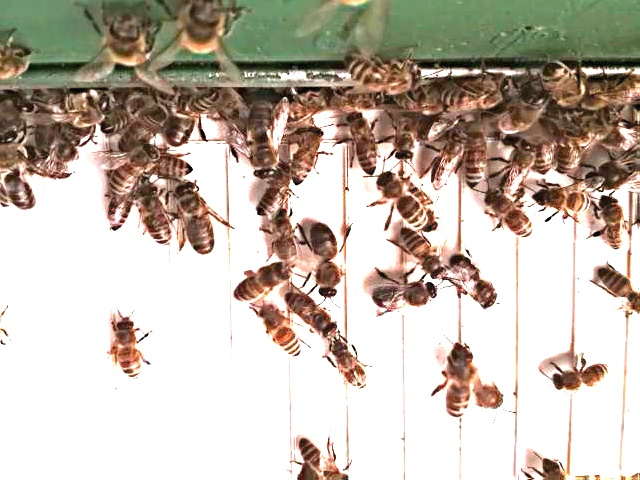Drone: (446, 252, 501, 314), (175, 181, 218, 258), (307, 221, 344, 305), (442, 340, 477, 424), (368, 278, 443, 315), (248, 100, 281, 182)
Worker: (379, 172, 429, 234), (108, 140, 162, 196), (398, 227, 448, 285), (258, 304, 305, 362), (232, 261, 291, 305), (287, 293, 340, 340), (138, 181, 174, 250), (486, 192, 535, 242), (254, 167, 297, 221), (110, 318, 144, 385), (596, 265, 640, 316), (266, 209, 301, 272), (330, 340, 371, 393), (429, 136, 464, 197), (550, 362, 614, 395), (292, 125, 326, 187), (347, 112, 378, 179), (598, 196, 630, 254), (463, 128, 491, 194), (142, 147, 198, 180), (534, 190, 595, 216)
